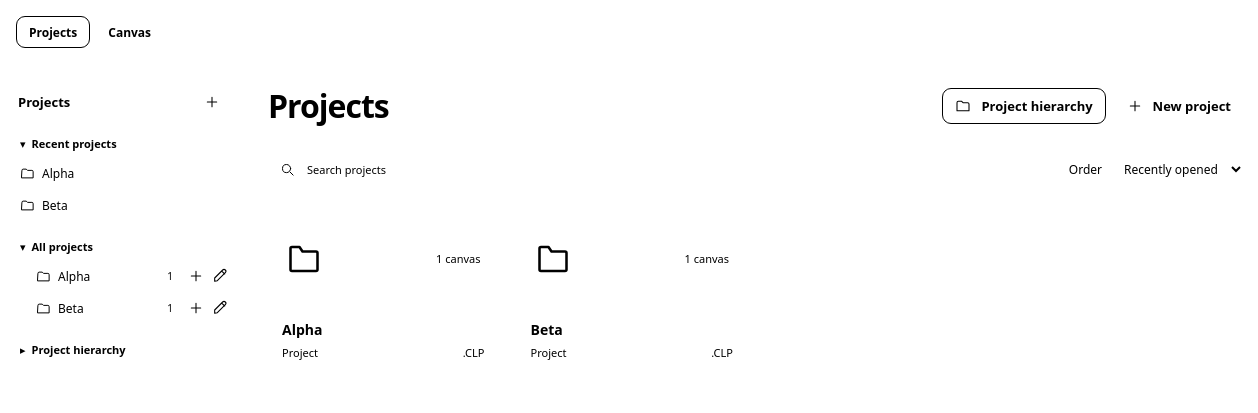
native Home catalog and recovery › counts unsaved drafts once while keeping their recoverable names when opening project contents
The width and height of the screenshot is (1258, 413).
Expected: the 1st text "1 canvas" is shown, [436,251,480,266]
Click the button with aria-label "Browse project Alpha". click: {"x": 383, "y": 293}
box: [268,212,498,374]
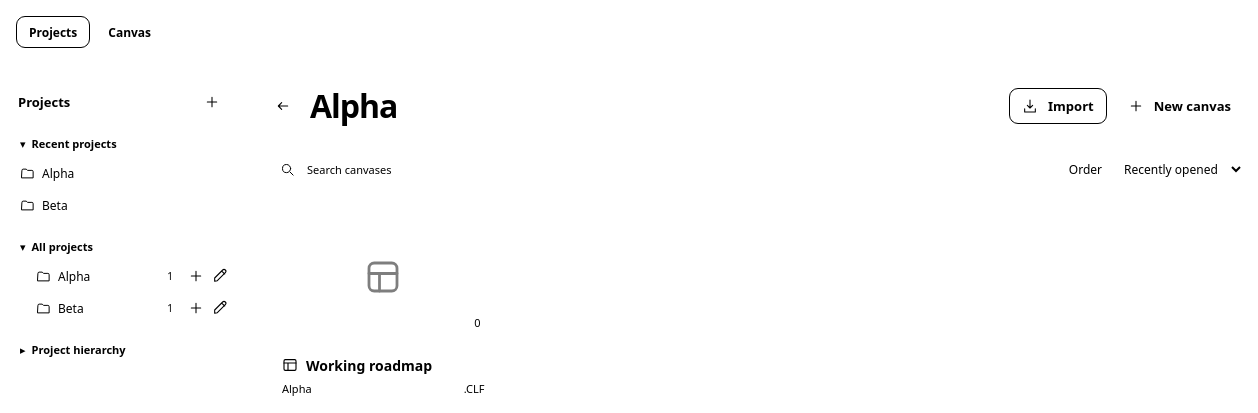
Result: the button "1 canvas Alpha Project .CLP" is gone
